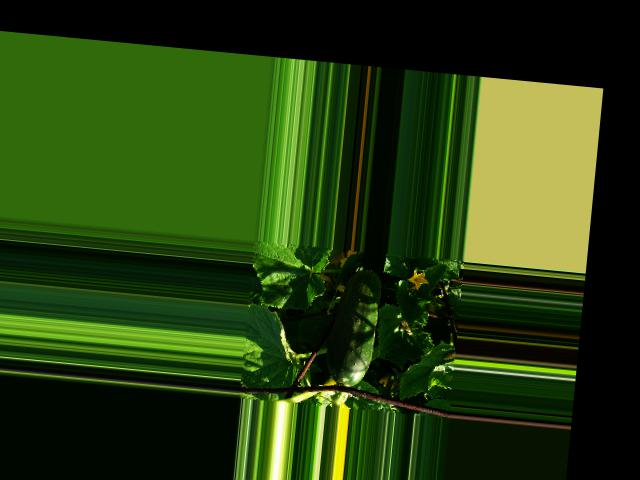cucumber: (322, 265, 383, 388)
